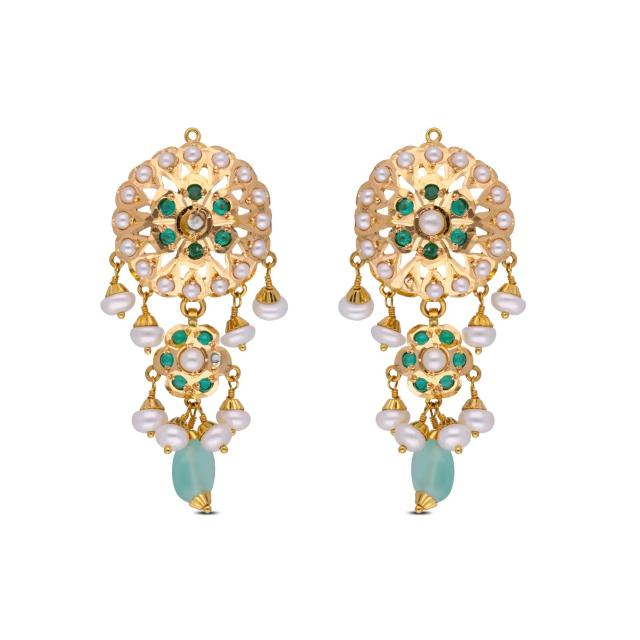missing gem: (181, 210, 206, 237), (402, 276, 416, 289), (210, 353, 223, 365)
